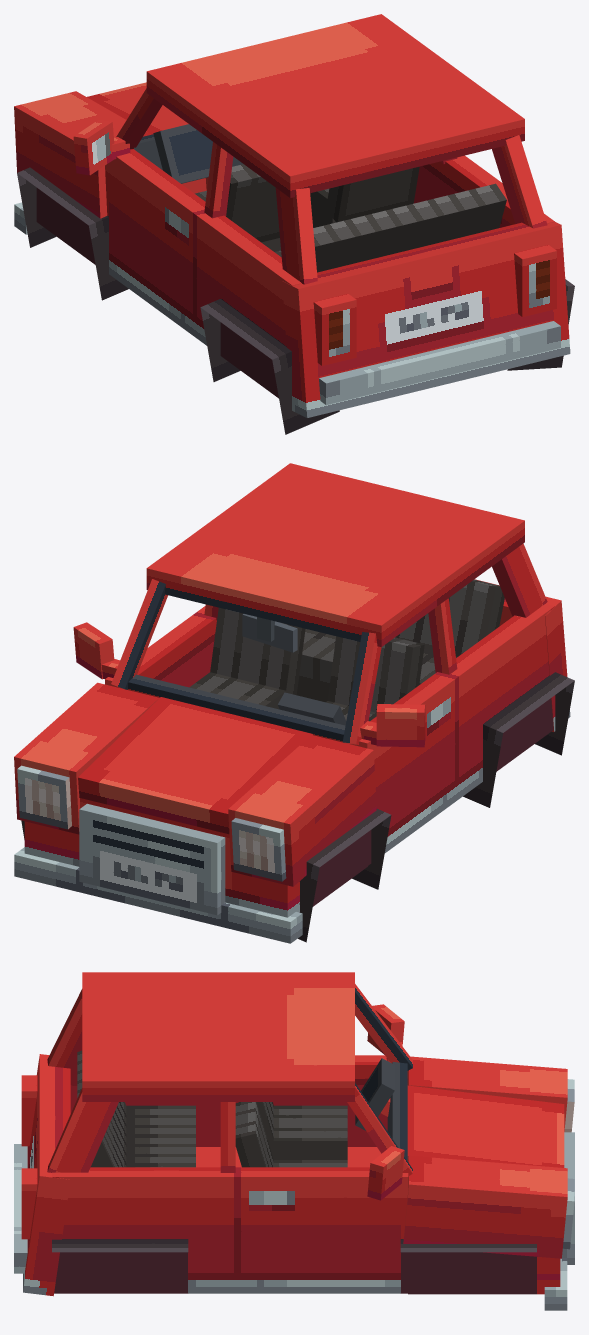
The model's file is car_mini.gltf.
The picture shows the model from 3 angles, top to bottom: view 1: azimuth 30°, elevation 25°; view 2: azimuth 150°, elevation 25°; view 3: azimuth 270°, elevation 25°; orthographic projection. The views are drawn at different scales.
Visible parts, largest first — view 1: cube (×23); view 2: cube (×30); view 3: cube (×33).
Part boxes in pixels (x1=…): cube (×23): x1=14, y1=14, x2=574, y2=434; cube (×30): x1=14, y1=463, x2=574, y2=943; cube (×33): x1=14, y1=972, x2=574, y2=1310.
Size of the model in its own units: 3.17 by 2.09 by 4.62.
Materials: 1 (1 with a texture image).
